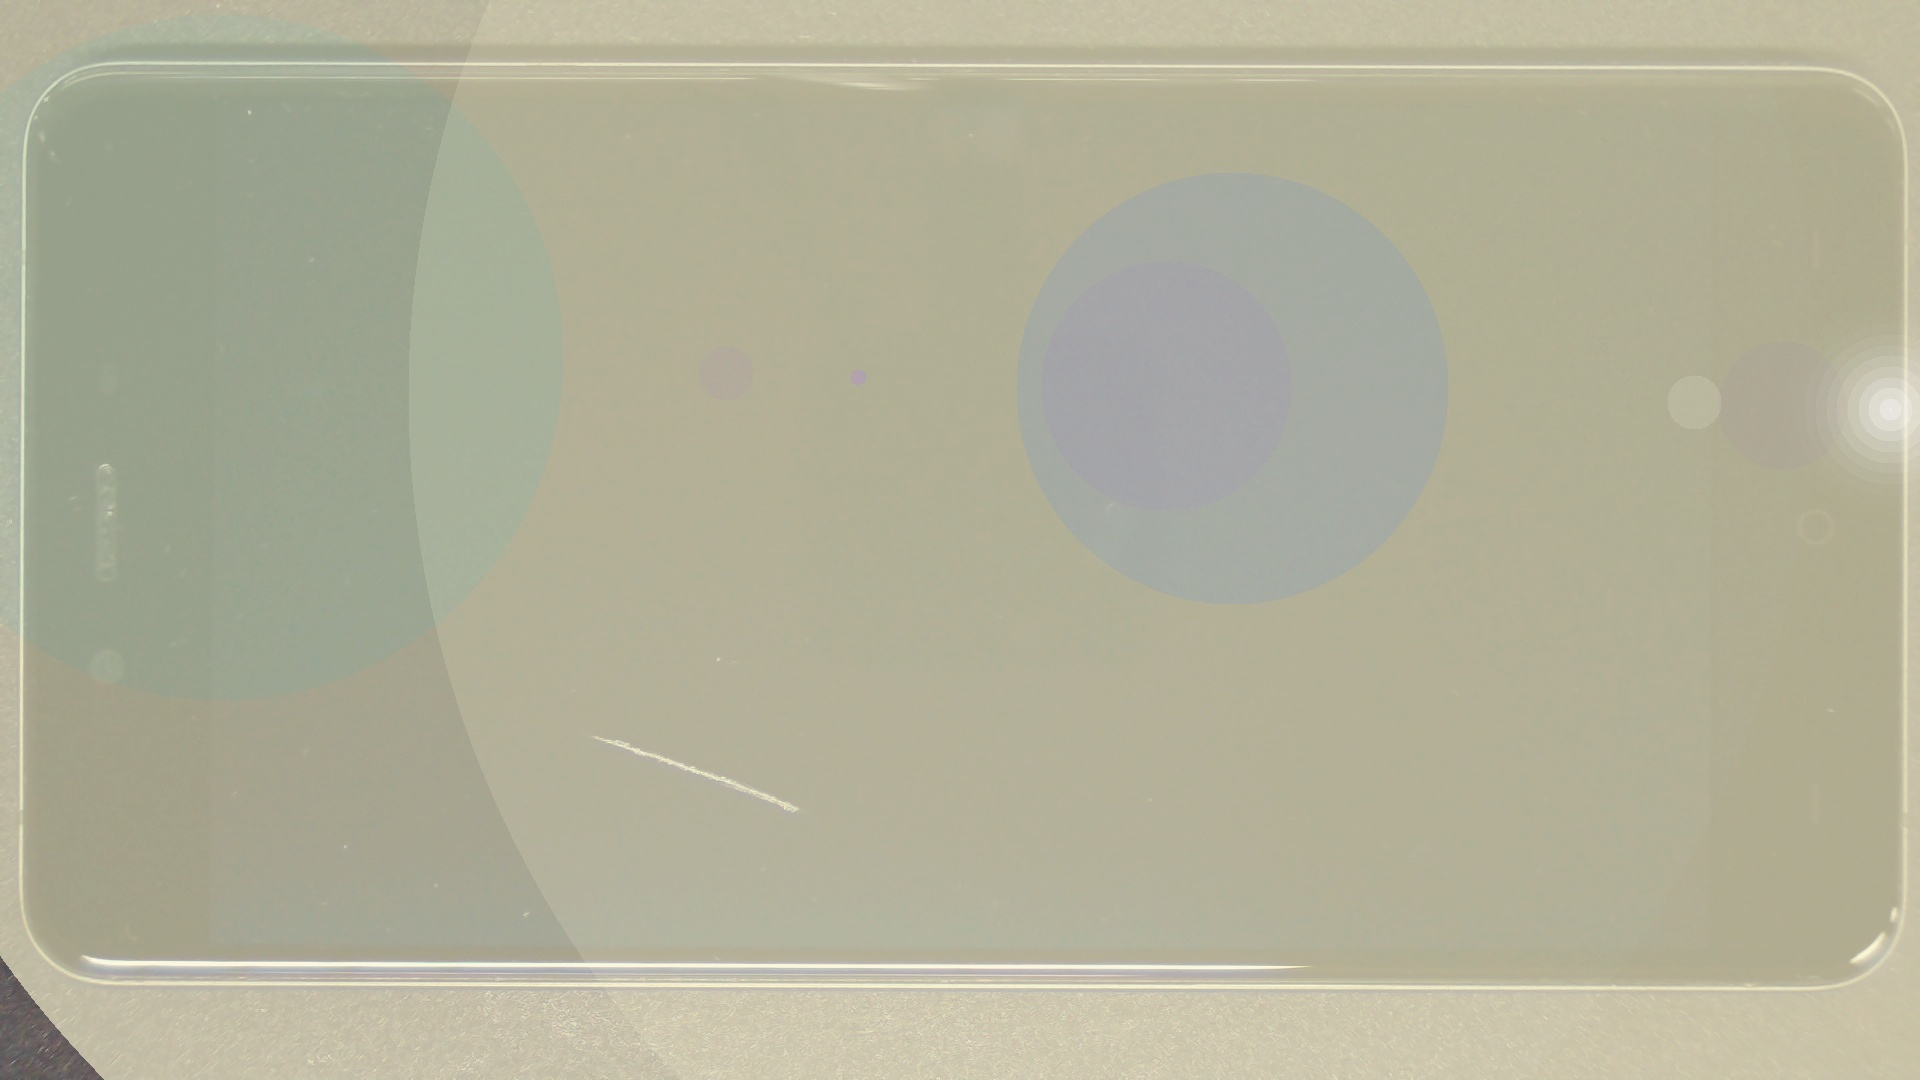oil: (293, 365, 887, 1080)
